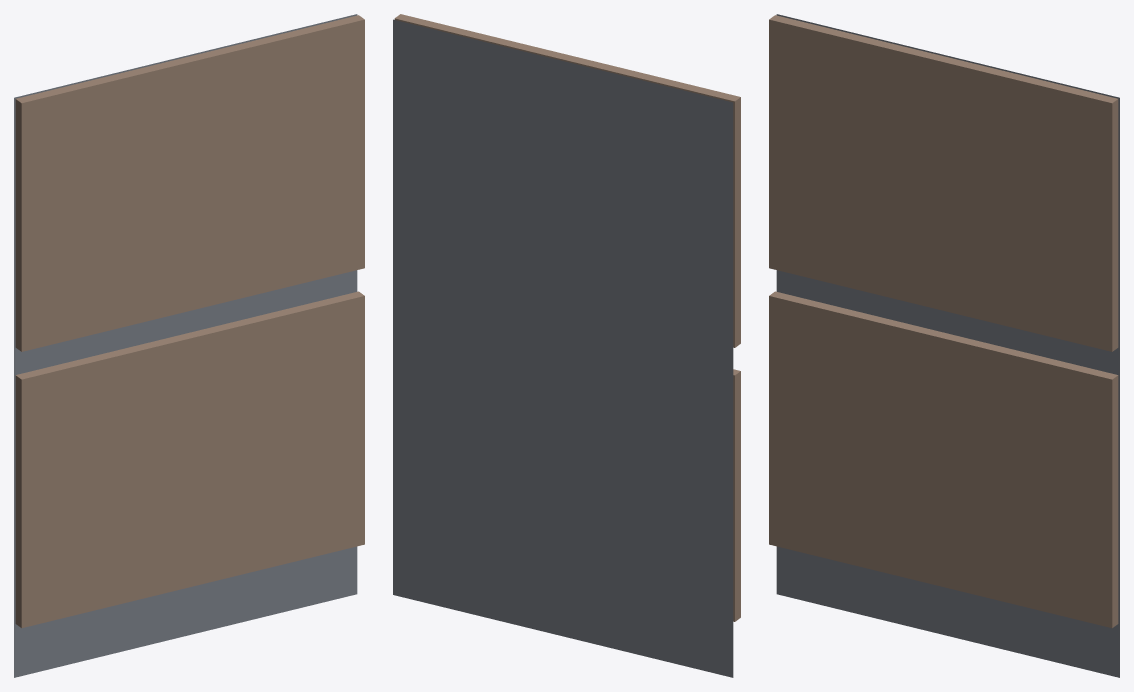
Rendered from window-view-cave.gltf.
3 views of the same model, side by side, from view 1: azimuth 30°, elevation 25°; view 2: azimuth 150°, elevation 25°; view 3: azimuth 330°, elevation 25° (orthographic).
Visible parts, largest first — view 1: ShutterTop, ShutterBottom, Backdrop; view 2: Backdrop, ShutterTop, ShutterBottom; view 3: ShutterTop, ShutterBottom, Backdrop.
Boxes of the visible parts, bbox=[...] form: ShutterTop: bbox=[15, 15, 364, 351]; ShutterBottom: bbox=[15, 291, 364, 628]; Backdrop: bbox=[14, 14, 357, 677]; Backdrop: bbox=[393, 19, 733, 677]; ShutterTop: bbox=[394, 14, 740, 347]; ShutterBottom: bbox=[733, 369, 740, 621]; ShutterTop: bbox=[769, 15, 1118, 351]; ShutterBottom: bbox=[769, 291, 1118, 628]; Backdrop: bbox=[776, 14, 1119, 677].
Size of the model in its own units: 1.3 by 2.1 by 0.05.
